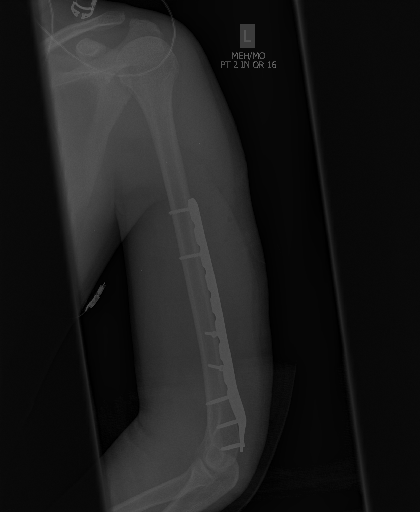implant: (166, 191, 252, 454)
